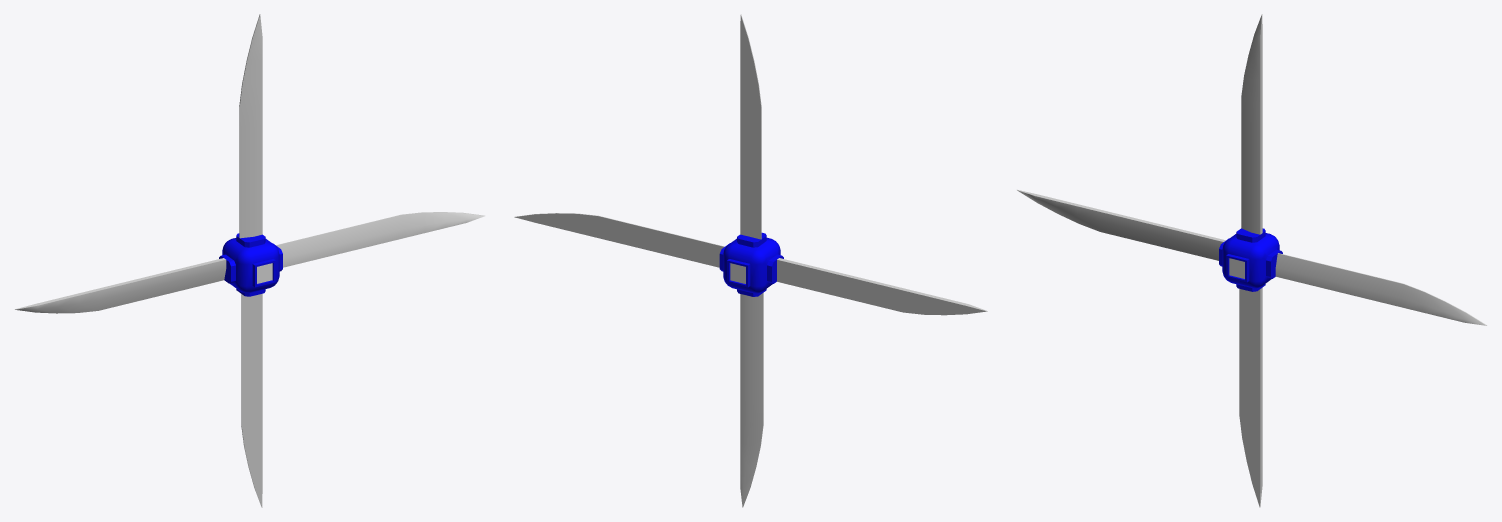
File: SpinningPropeller.fbx
The picture shows the model from 3 angles, left to right: view 1: azimuth 30°, elevation 25°; view 2: azimuth 150°, elevation 25°; view 3: azimuth 330°, elevation 25°; orthographic projection.
Visible parts, largest first — view 1: blade, blade4, blade3, blade2, mainBody; view 2: blade3, blade2, blade, blade4, mainBody; view 3: blade4, blade2, blade, blade3, mainBody.
Boxes of the visible parts, bbox=[...] form: blade: bbox=[239, 14, 262, 238]; blade4: bbox=[276, 212, 484, 267]; blade3: bbox=[14, 258, 226, 313]; blade2: bbox=[241, 293, 262, 507]; mainBody: bbox=[219, 233, 282, 296]; blade3: bbox=[777, 258, 987, 315]; blade2: bbox=[740, 293, 763, 507]; blade: bbox=[740, 14, 761, 239]; blade4: bbox=[514, 213, 724, 267]; mainBody: bbox=[719, 232, 783, 296]; blade4: bbox=[1275, 253, 1487, 325]; blade2: bbox=[1239, 287, 1262, 507]; blade: bbox=[1241, 14, 1262, 234]; blade3: bbox=[1017, 189, 1225, 260]; mainBody: bbox=[1219, 228, 1282, 291].
Bounding box in the file's own units: 1124 × 1123 × 119.
